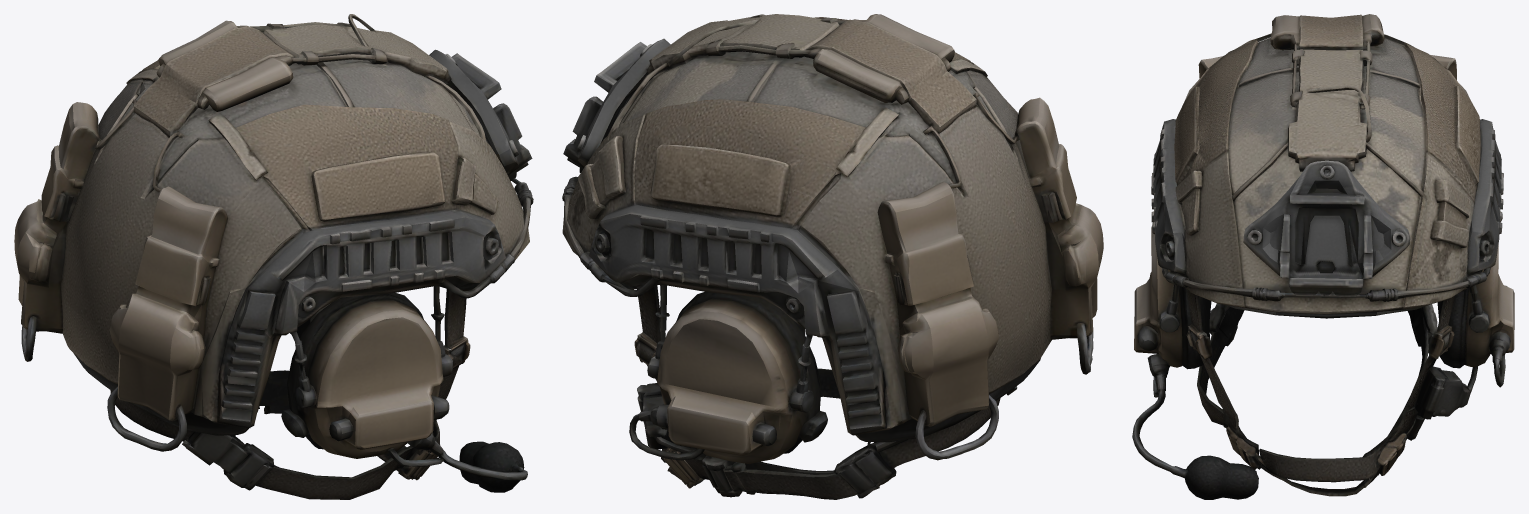
File: tactical-helmet-headset.glb
3 views of the same model, side by side, from view 1: azimuth 30°, elevation 25°; view 2: azimuth 150°, elevation 25°; view 3: azimuth 270°, elevation 25° (orthographic). The views are drawn at different scales.
Visible parts, largest first — view 1: obj1_0; view 2: obj1_0; view 3: obj1_0.
Boxes of the visible parts, x1,y1,x2,y2 form: obj1_0: [14, 14, 533, 499]; obj1_0: [562, 14, 1103, 499]; obj1_0: [1132, 14, 1514, 499].
Size of the model in its own units: 0.998 by 0.9945 by 0.8494.
1 material, 1 textured.
